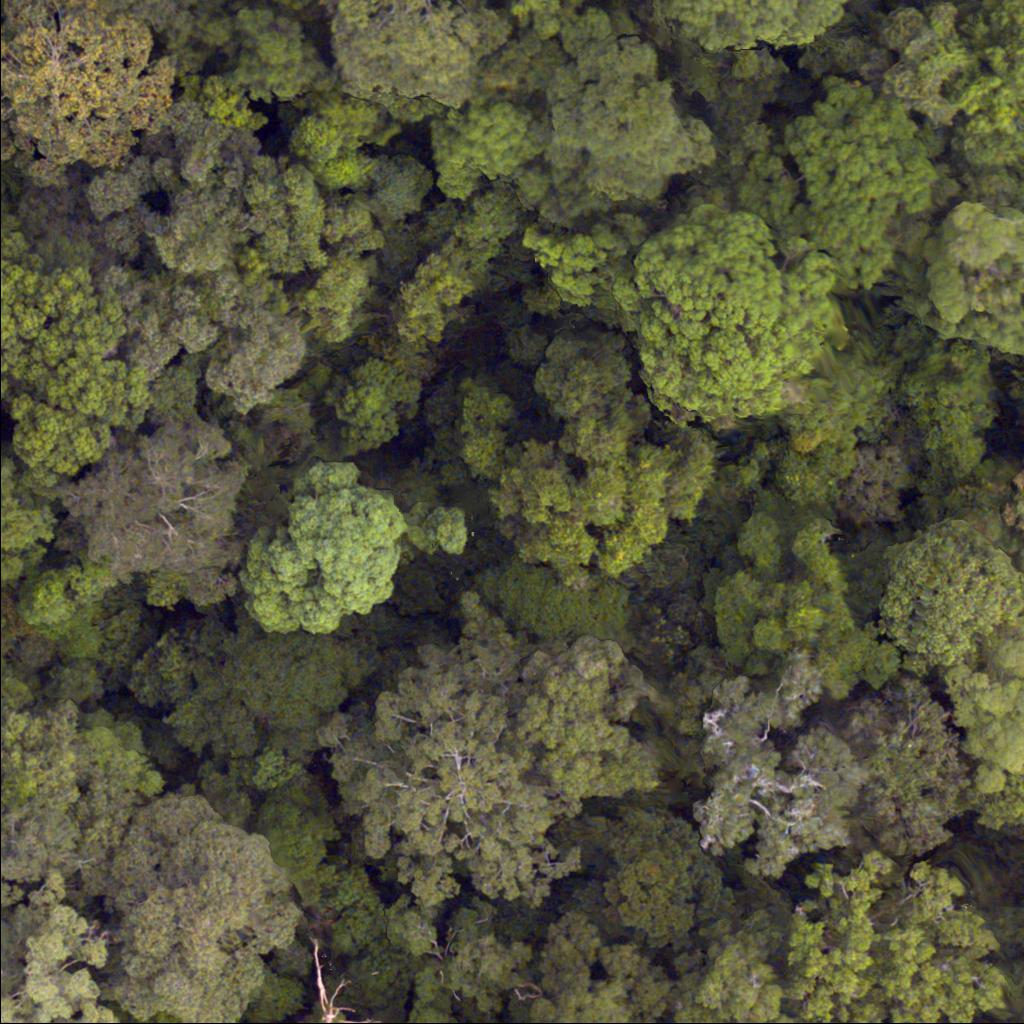crown: (52, 121, 320, 411), (448, 344, 725, 593), (325, 641, 578, 908), (625, 196, 851, 432), (105, 792, 318, 1023), (707, 480, 905, 723), (774, 846, 1022, 1023), (753, 84, 942, 299), (0, 230, 158, 487), (697, 662, 879, 882), (60, 410, 250, 606), (129, 614, 371, 763), (548, 28, 713, 239), (245, 458, 410, 634), (511, 636, 669, 810), (880, 0, 1023, 181), (831, 672, 970, 855), (577, 804, 736, 962), (886, 513, 1023, 672), (898, 188, 1023, 358), (885, 341, 1012, 495), (524, 909, 690, 1023), (782, 334, 906, 471), (427, 88, 542, 203), (681, 918, 805, 1023), (944, 622, 1023, 786), (216, 15, 337, 117), (0, 456, 61, 590), (89, 0, 208, 55), (0, 603, 23, 653)
